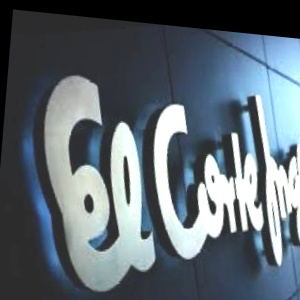corte_ingles: (30, 243, 300, 276)
